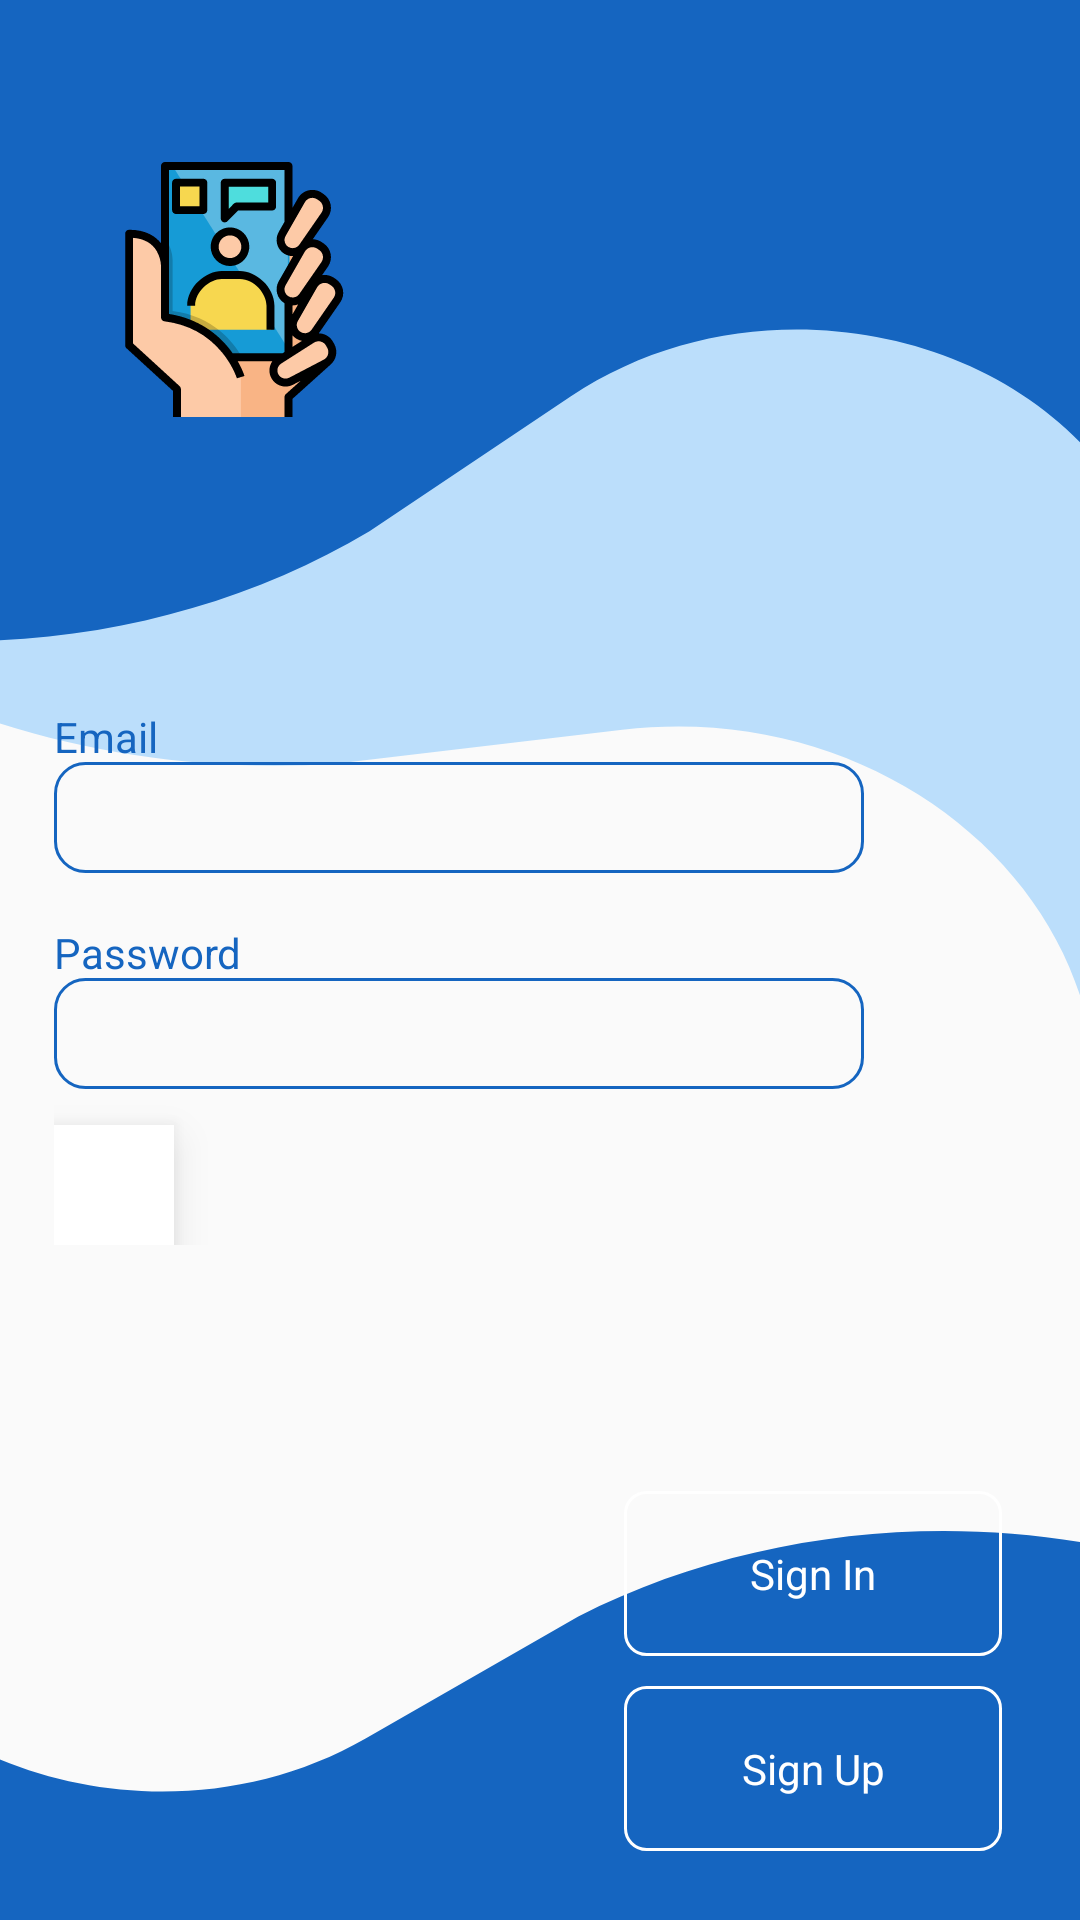

Icons on this 1080px×1920px Android screen, each with its box as (x1, y1, x2, y2):
video calling: (125, 162, 344, 417)
